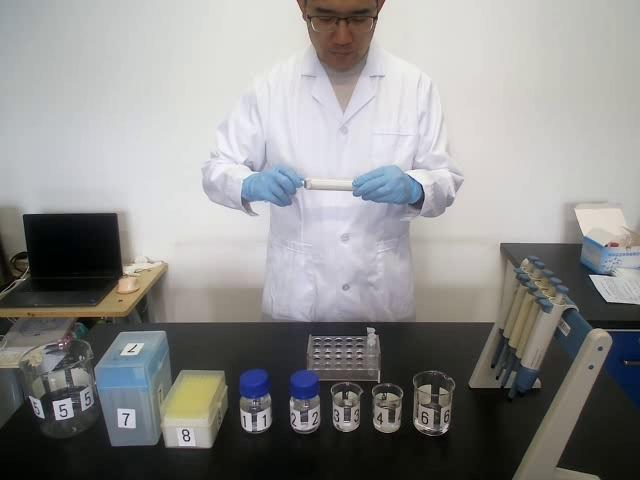Gloves: (352, 163, 420, 206), (244, 165, 303, 208)
Lab_coat: (266, 72, 418, 321)
